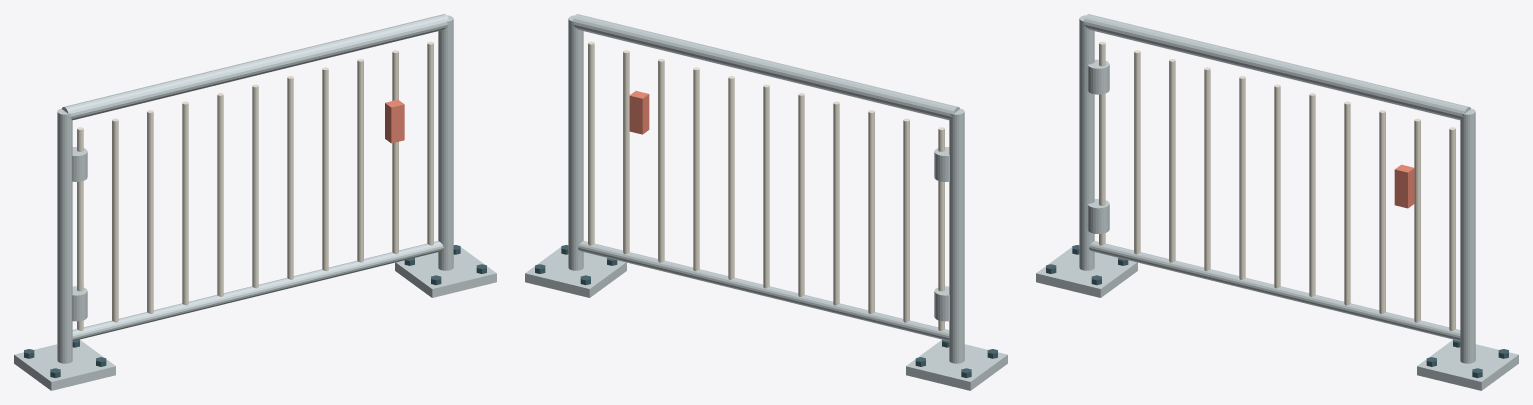
File: waterpark-and-pool-operations-waterpark-and-pool-opera-81fc3669__28983.glb
3 renders of one model, left to right at view 1: azimuth 30°, elevation 25°; view 2: azimuth 150°, elevation 25°; view 3: azimuth 330°, elevation 25°, orthographic.
Parts seen in each view (by area): view 1: waterpark-and-pool-operations-fence-gate-end-assembly; view 2: waterpark-and-pool-operations-fence-gate-end-assembly; view 3: waterpark-and-pool-operations-fence-gate-end-assembly.
Boxes of the visible parts, x1=… form: waterpark-and-pool-operations-fence-gate-end-assembly: x1=14, y1=14, x2=496, y2=390; waterpark-and-pool-operations-fence-gate-end-assembly: x1=525, y1=14, x2=1007, y2=390; waterpark-and-pool-operations-fence-gate-end-assembly: x1=1036, y1=14, x2=1518, y2=390.
Size of the model in its own units: 2.34 by 1.32 by 0.3399.
